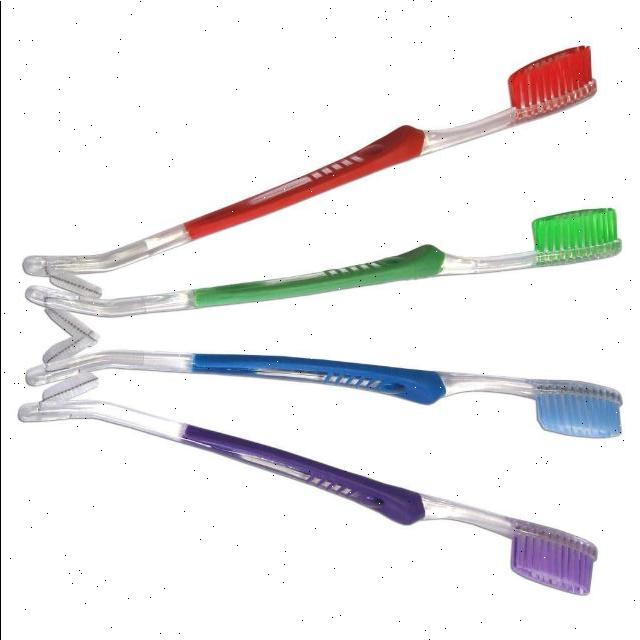toothbrush: (286, 202, 638, 310)
